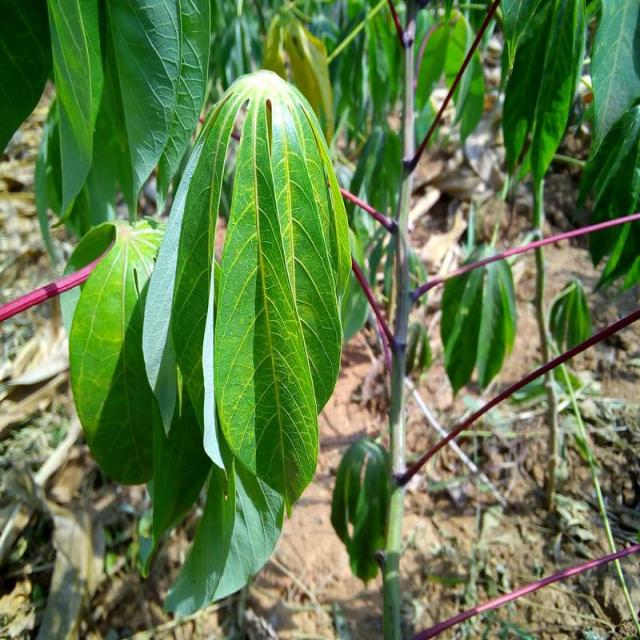cassava leaf: (140, 67, 352, 618), (66, 216, 170, 487)
